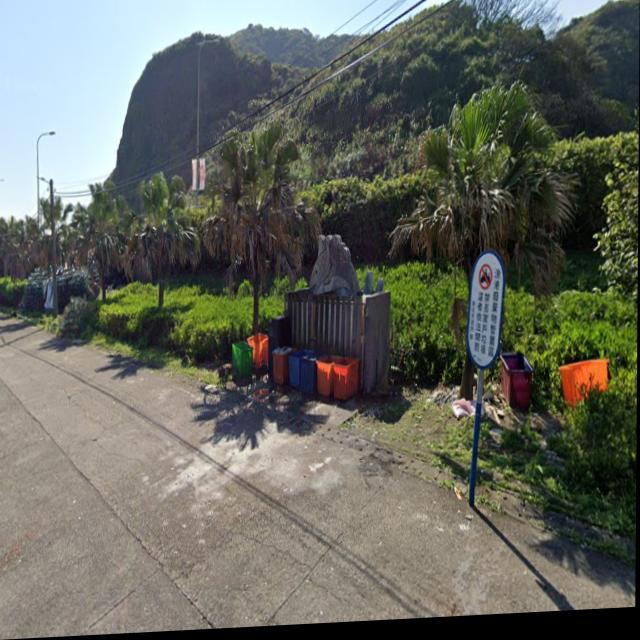pollute: (231, 319, 361, 406), (19, 263, 100, 319)
